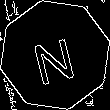N_N: (29, 26, 81, 84)
